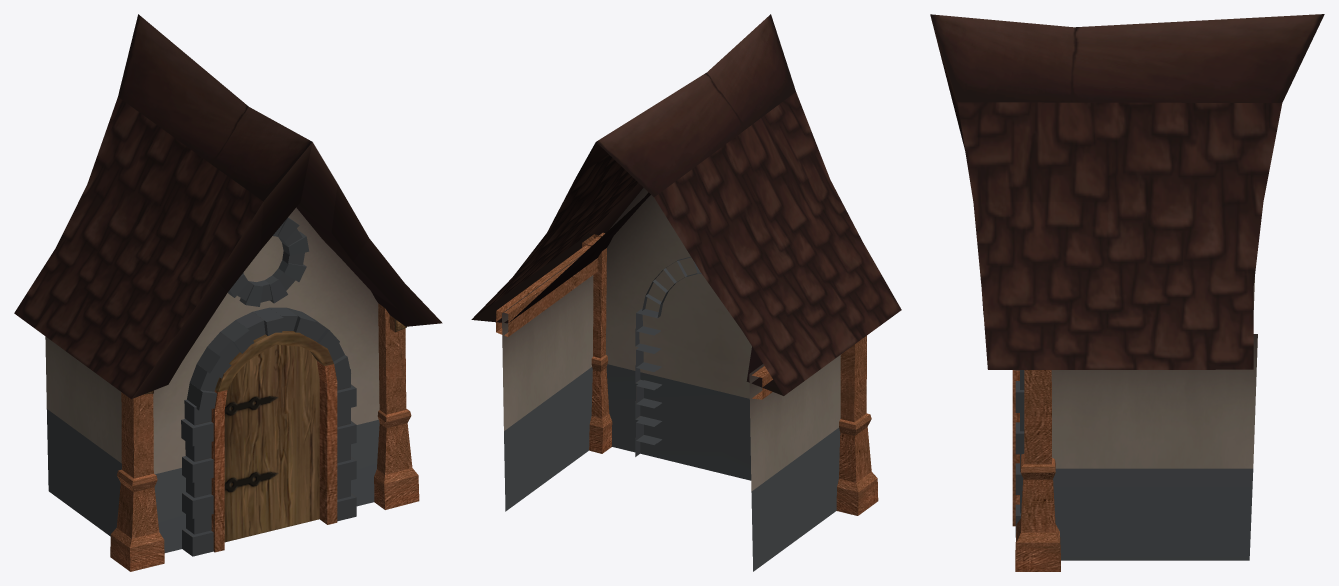
Rendered from fanasty_mod_entrance_door01.fbx.
3 views of the same model, side by side, from view 1: azimuth 30°, elevation 25°; view 2: azimuth 150°, elevation 25°; view 3: azimuth 270°, elevation 25° (orthographic). The views are drawn at different scales.
Visible parts, largest first — view 1: entrance_door_01; view 2: entrance_door_01; view 3: entrance_door_01.
Boxes of the visible parts, left/top/right/bottom form: entrance_door_01: left=14, top=14, right=442, bottom=571; entrance_door_01: left=471, top=14, right=901, bottom=571; entrance_door_01: left=930, top=14, right=1324, bottom=571.
Size of the model in its own units: 3.89 by 5.04 by 3.77.
